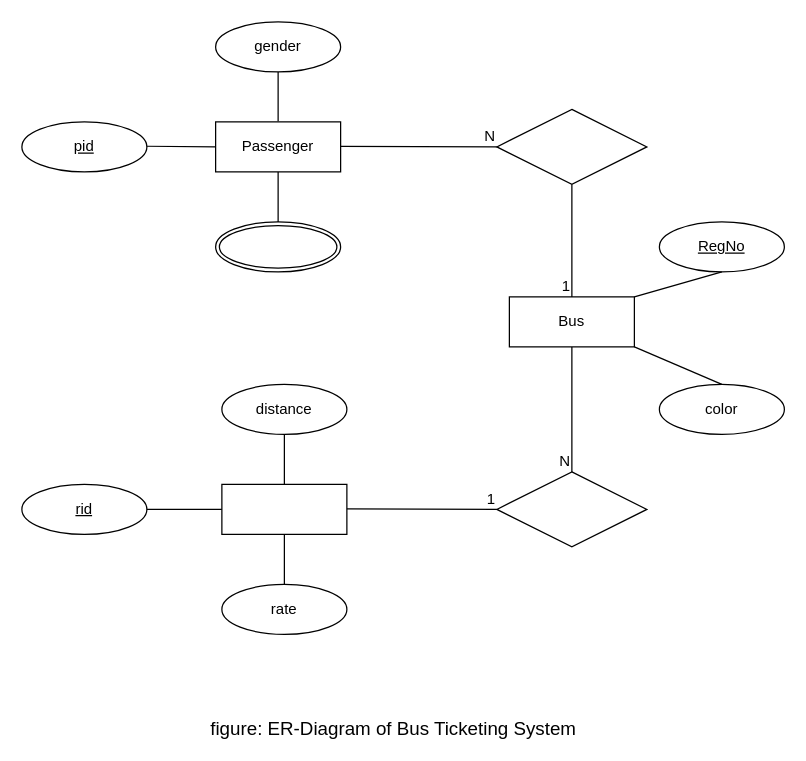
This 806x761 diagram has some shape labels left out. The shapes that lost their labels are listed below. From the top down, each one's centre as x and y in pixels, then its label:
At (571,146): "assigned_to".
At (277,246): "telephone".
At (284,508): "Route".
At (571,509): "travels".
